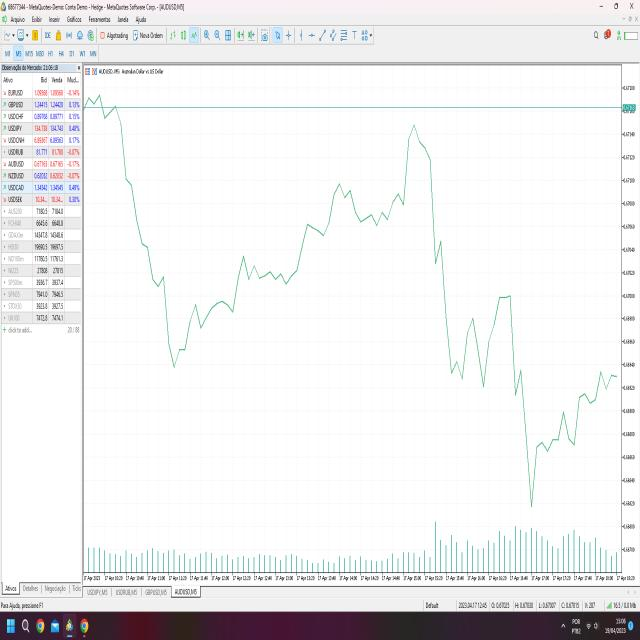oco: (462, 260, 529, 416)
